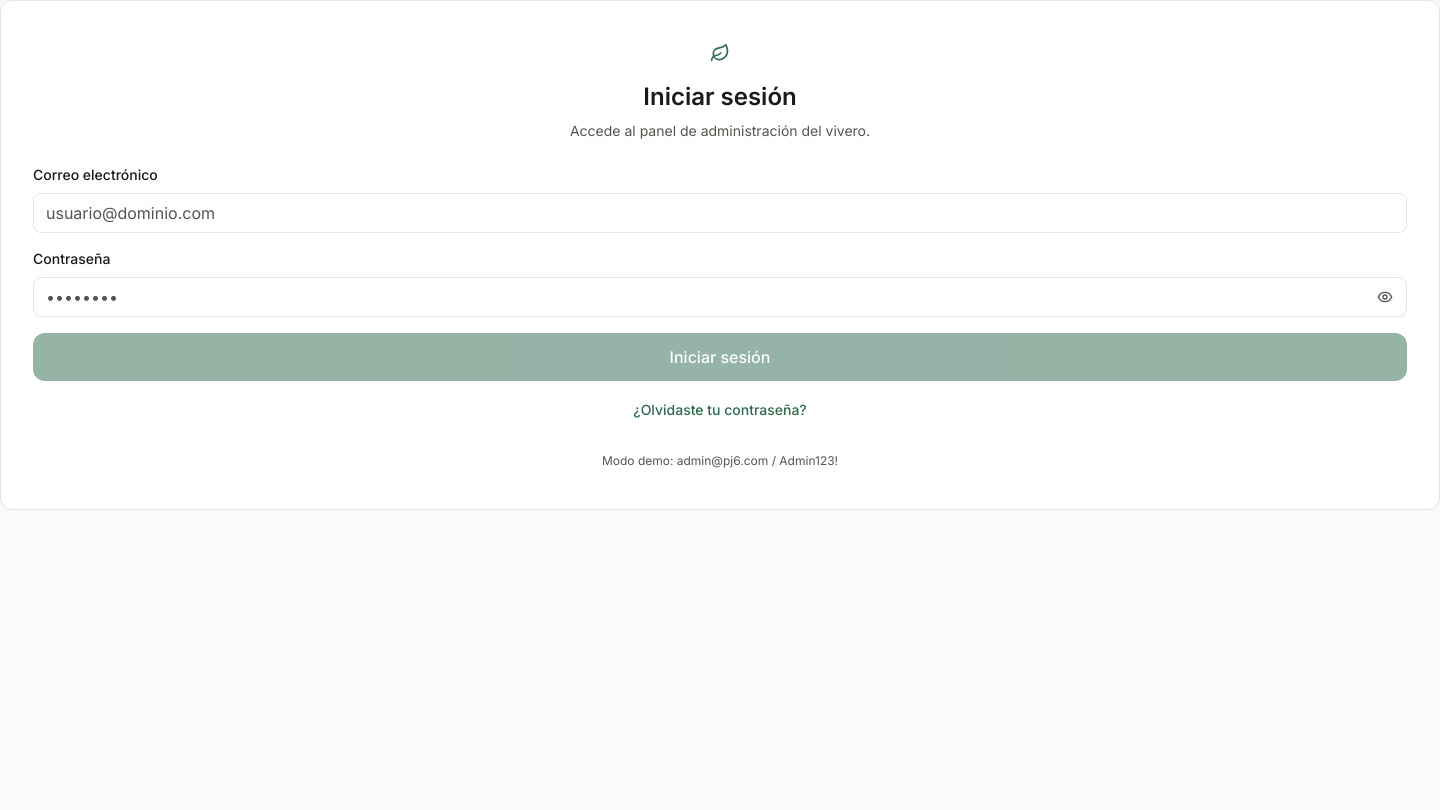
Test: LoginForm › muestra el error inline exacto cuando las credenciales son inválidas (401)
This screenshot has width=1440, height=810.
Type "ana@vivero.com" into the field labelled "Correo electrónico".
click(720, 213); type("ana@vivero.com")  # box [33, 193, 1407, 233]
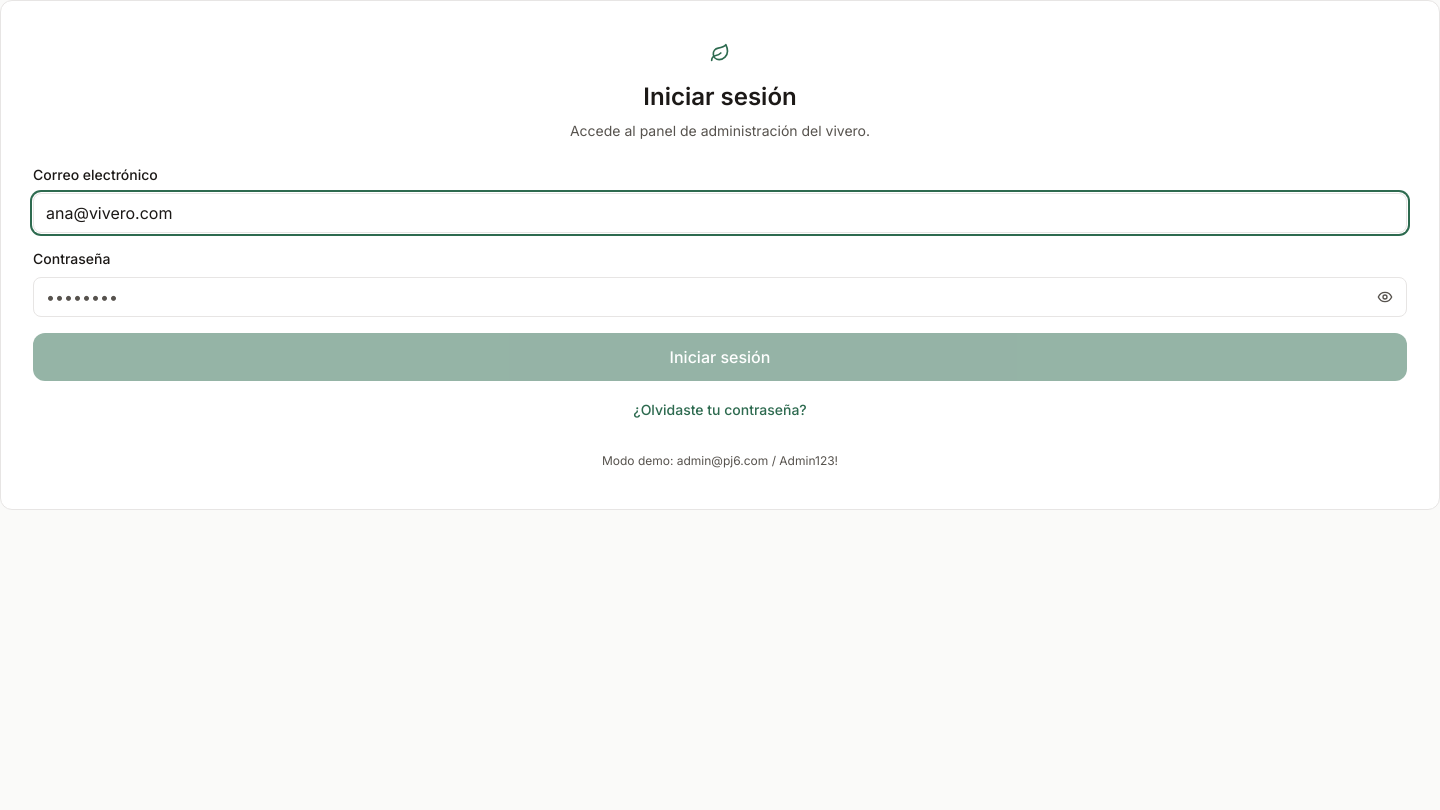
Type "incorrecta" into the password field labelled "Contraseña".
click(720, 297); type("incorrecta")  # box [33, 277, 1407, 317]
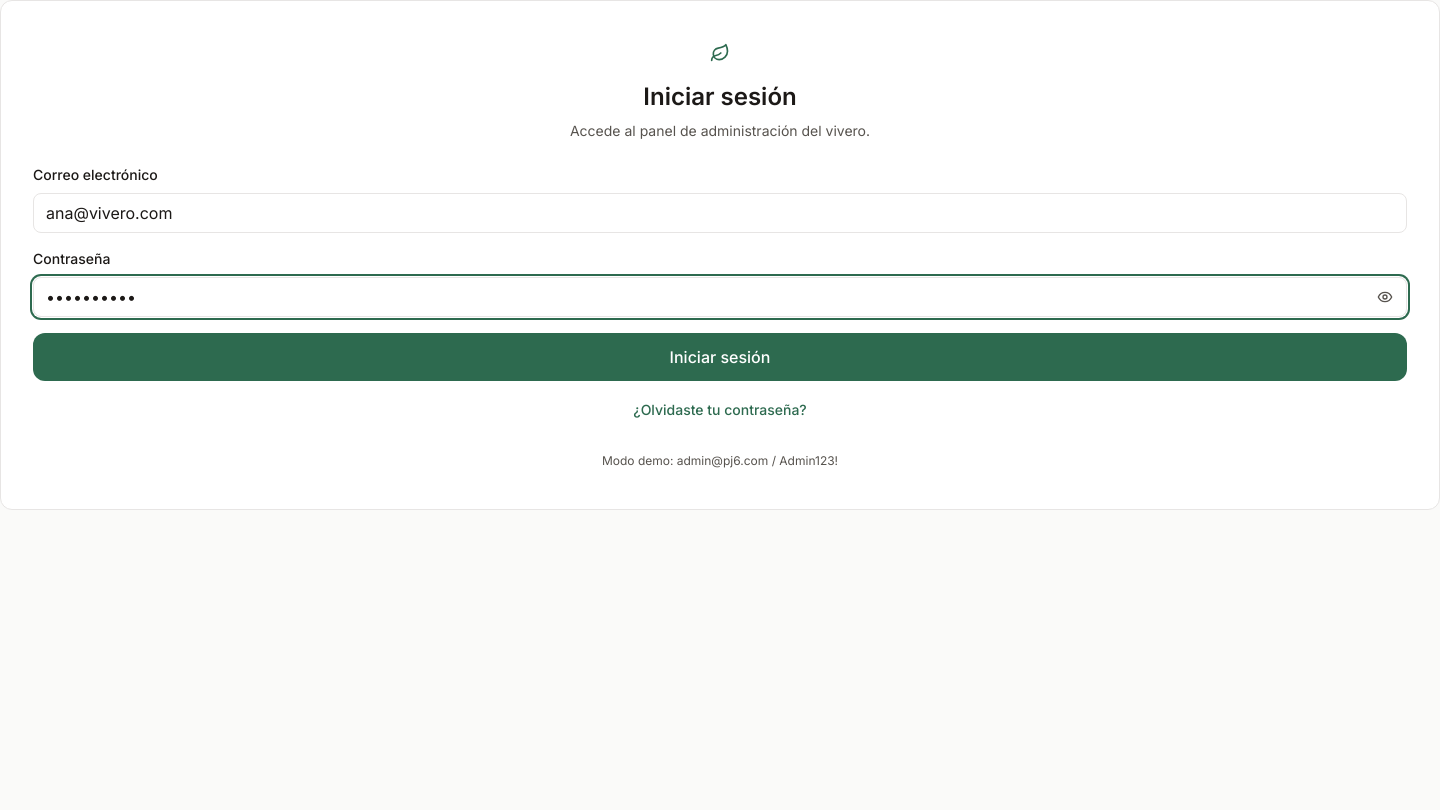
Click the button "Iniciar sesión".
click(720, 357)  # box [33, 333, 1407, 381]
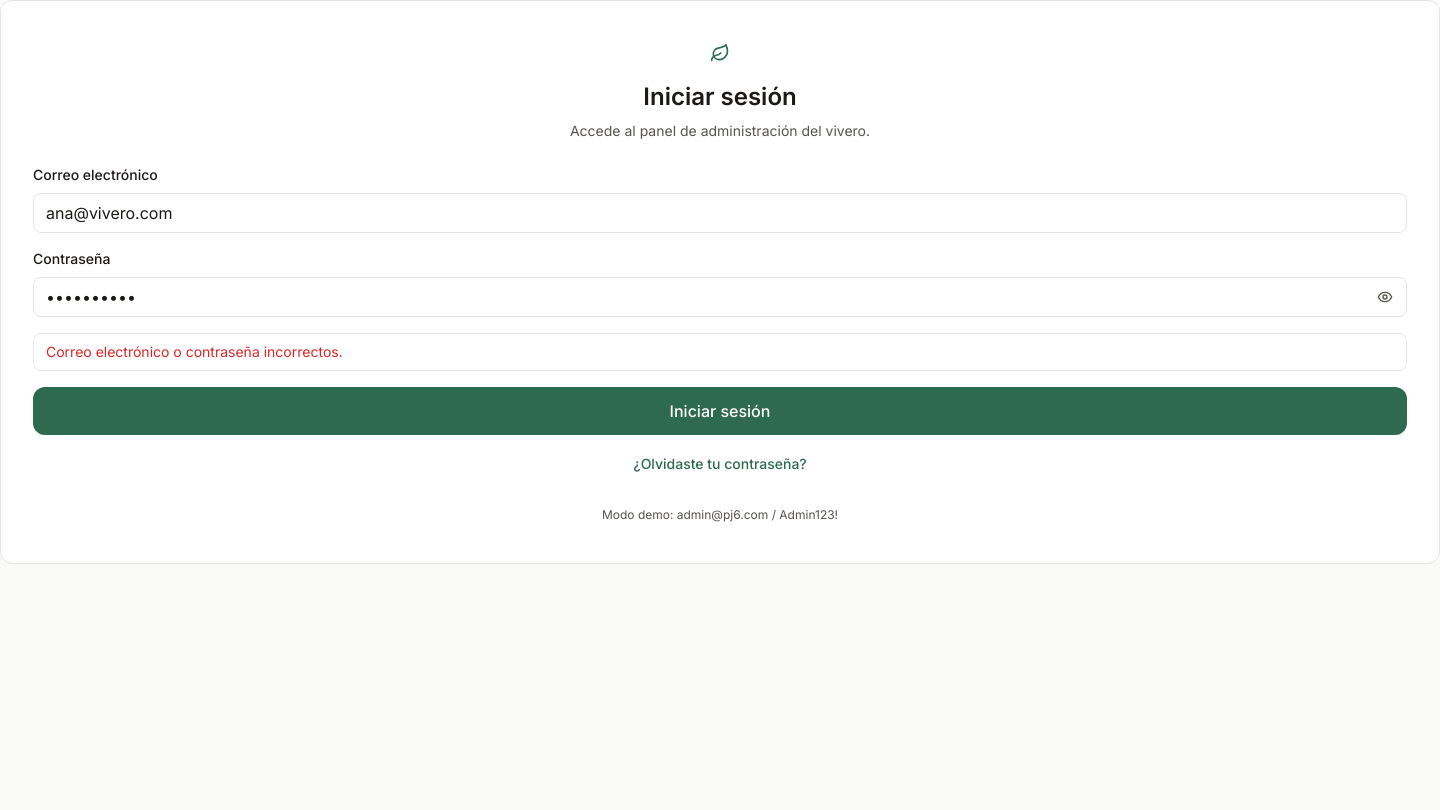
Result: the message reads "Correo electrónico o contraseña incorrectos." at [46, 343, 343, 360]
